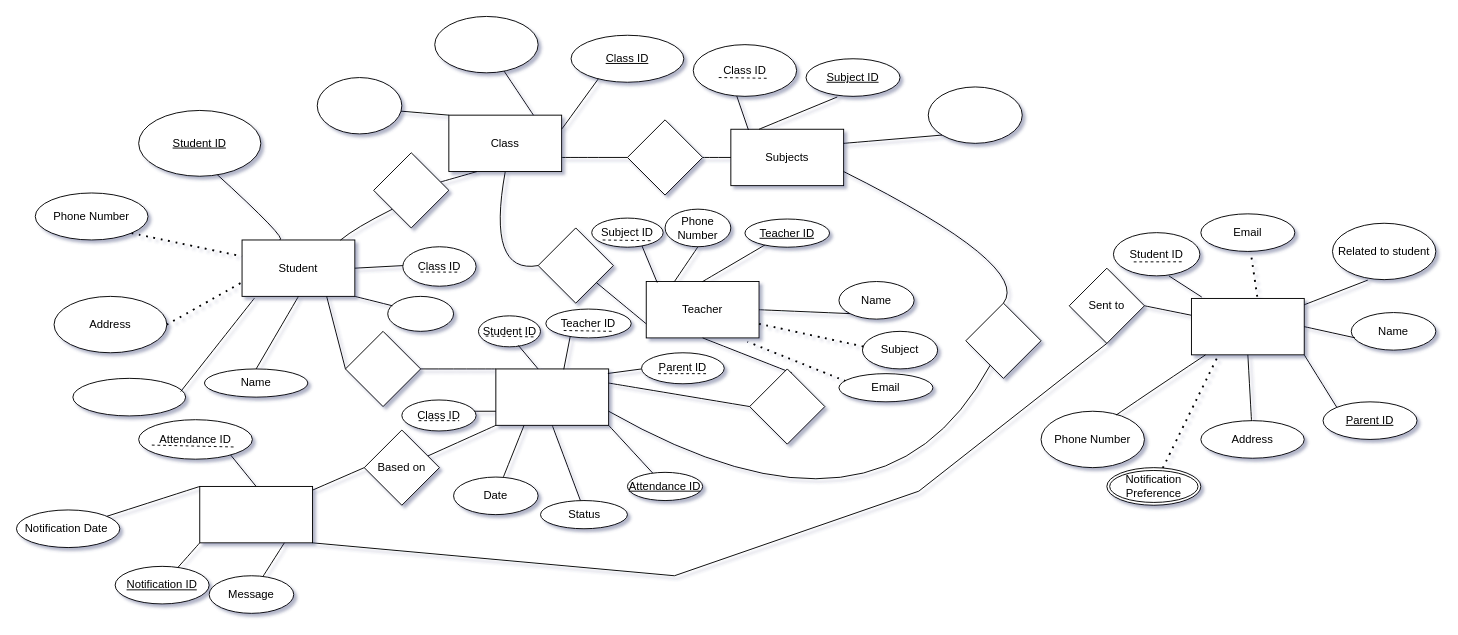
The diagram is 1458 pixels wide and 635 high, and some of its shapes have lost their labels. The box of each missing label's shape, as (x1, y1, x2, y2) in pixels:
Attendance: (495, 368, 609, 425)
Belongs to: (373, 152, 449, 228)
Class Name: (316, 77, 402, 134)
Date of Birth: (387, 295, 454, 331)
Gender: (72, 377, 186, 416)
includes: (627, 119, 703, 195)
Managed by: (537, 227, 613, 303)
Notification: (199, 486, 313, 543)
Parent: (1191, 298, 1304, 355)
Recorded for: (965, 302, 1041, 378)
Records: (749, 368, 825, 444)
Schedule: (434, 16, 538, 73)
Subject Name: (927, 86, 1022, 143)
View: (345, 330, 421, 407)
